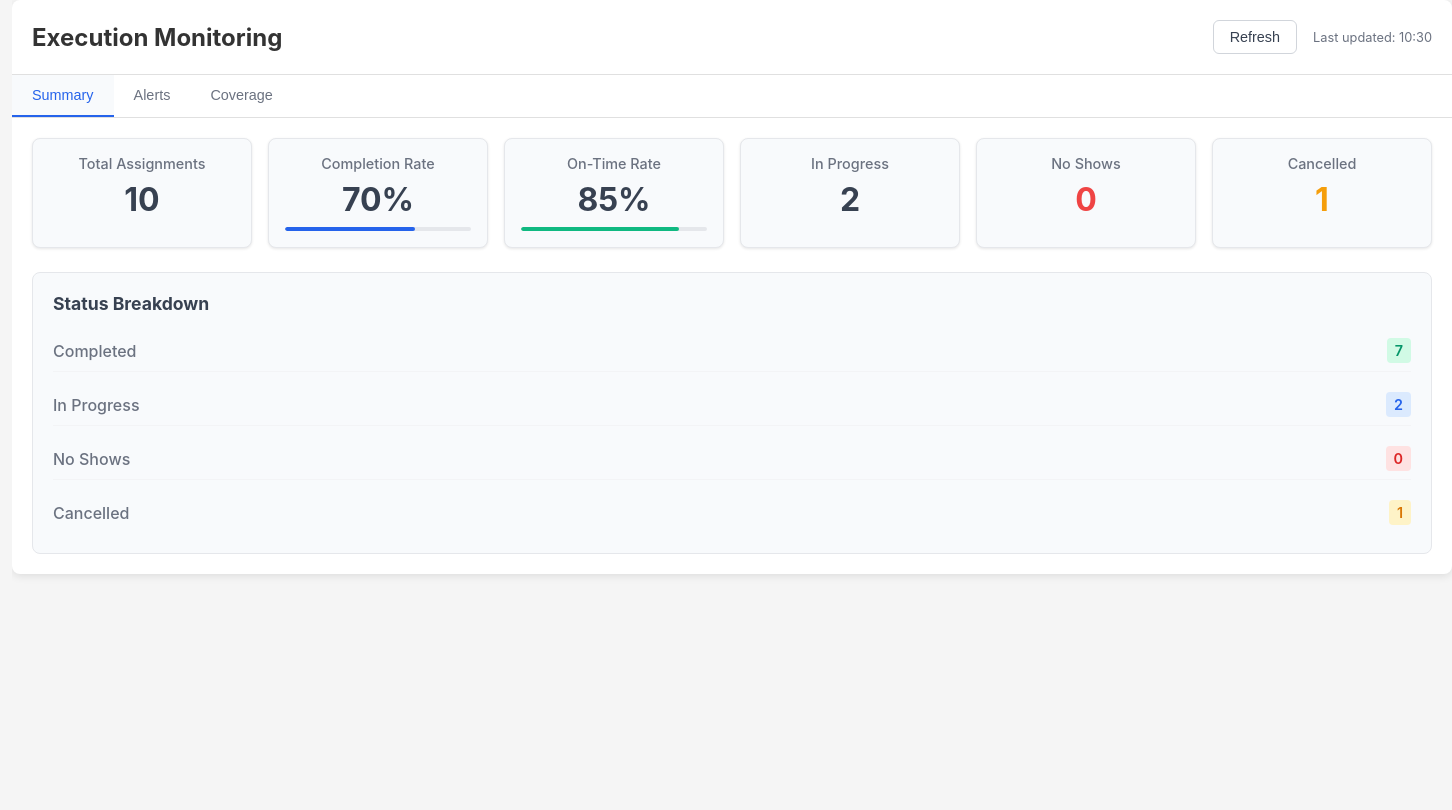
Test: ExecutionMonitoring › should show no alerts message when no alerts exist
Click the button "Alerts" at (152, 96), box [114,75,190,117]
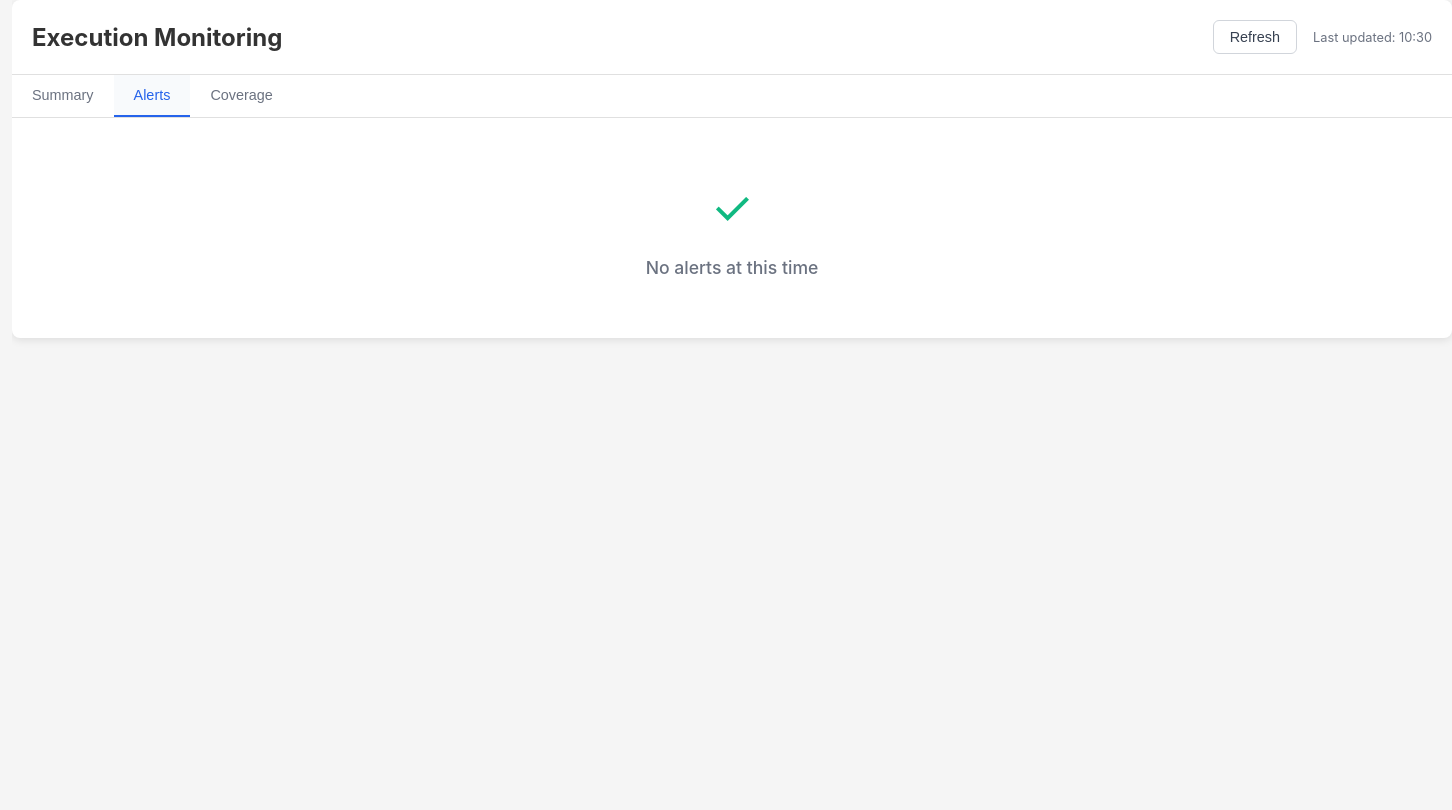
Now the text "No alerts at this time" is shown, box [646,257,818,278]
Now the icon "✓" is shown, box [711,178,753,237]
